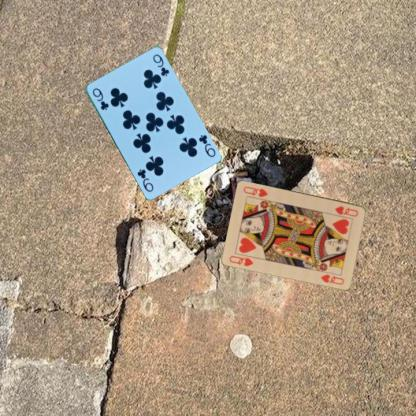9c: (90, 84, 110, 112), (196, 132, 217, 158)
Qh: (227, 253, 255, 268), (332, 203, 359, 218)
